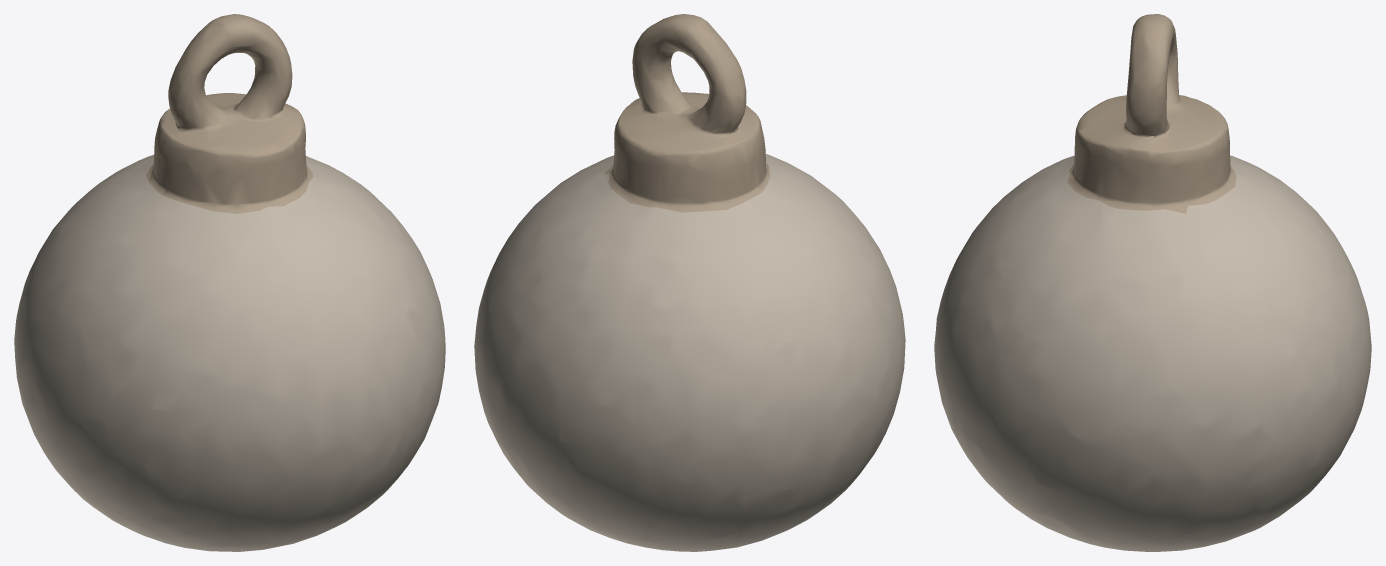
File: ball_01.full.glb
3 views of the same model, side by side, from view 1: azimuth 30°, elevation 25°; view 2: azimuth 150°, elevation 25°; view 3: azimuth 270°, elevation 25° (orthographic).
Bounding box in the file's own units: 1.53 × 2 × 1.55.
